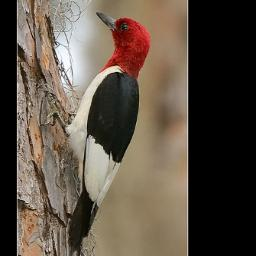Woodpecker: (39, 7, 153, 256)
